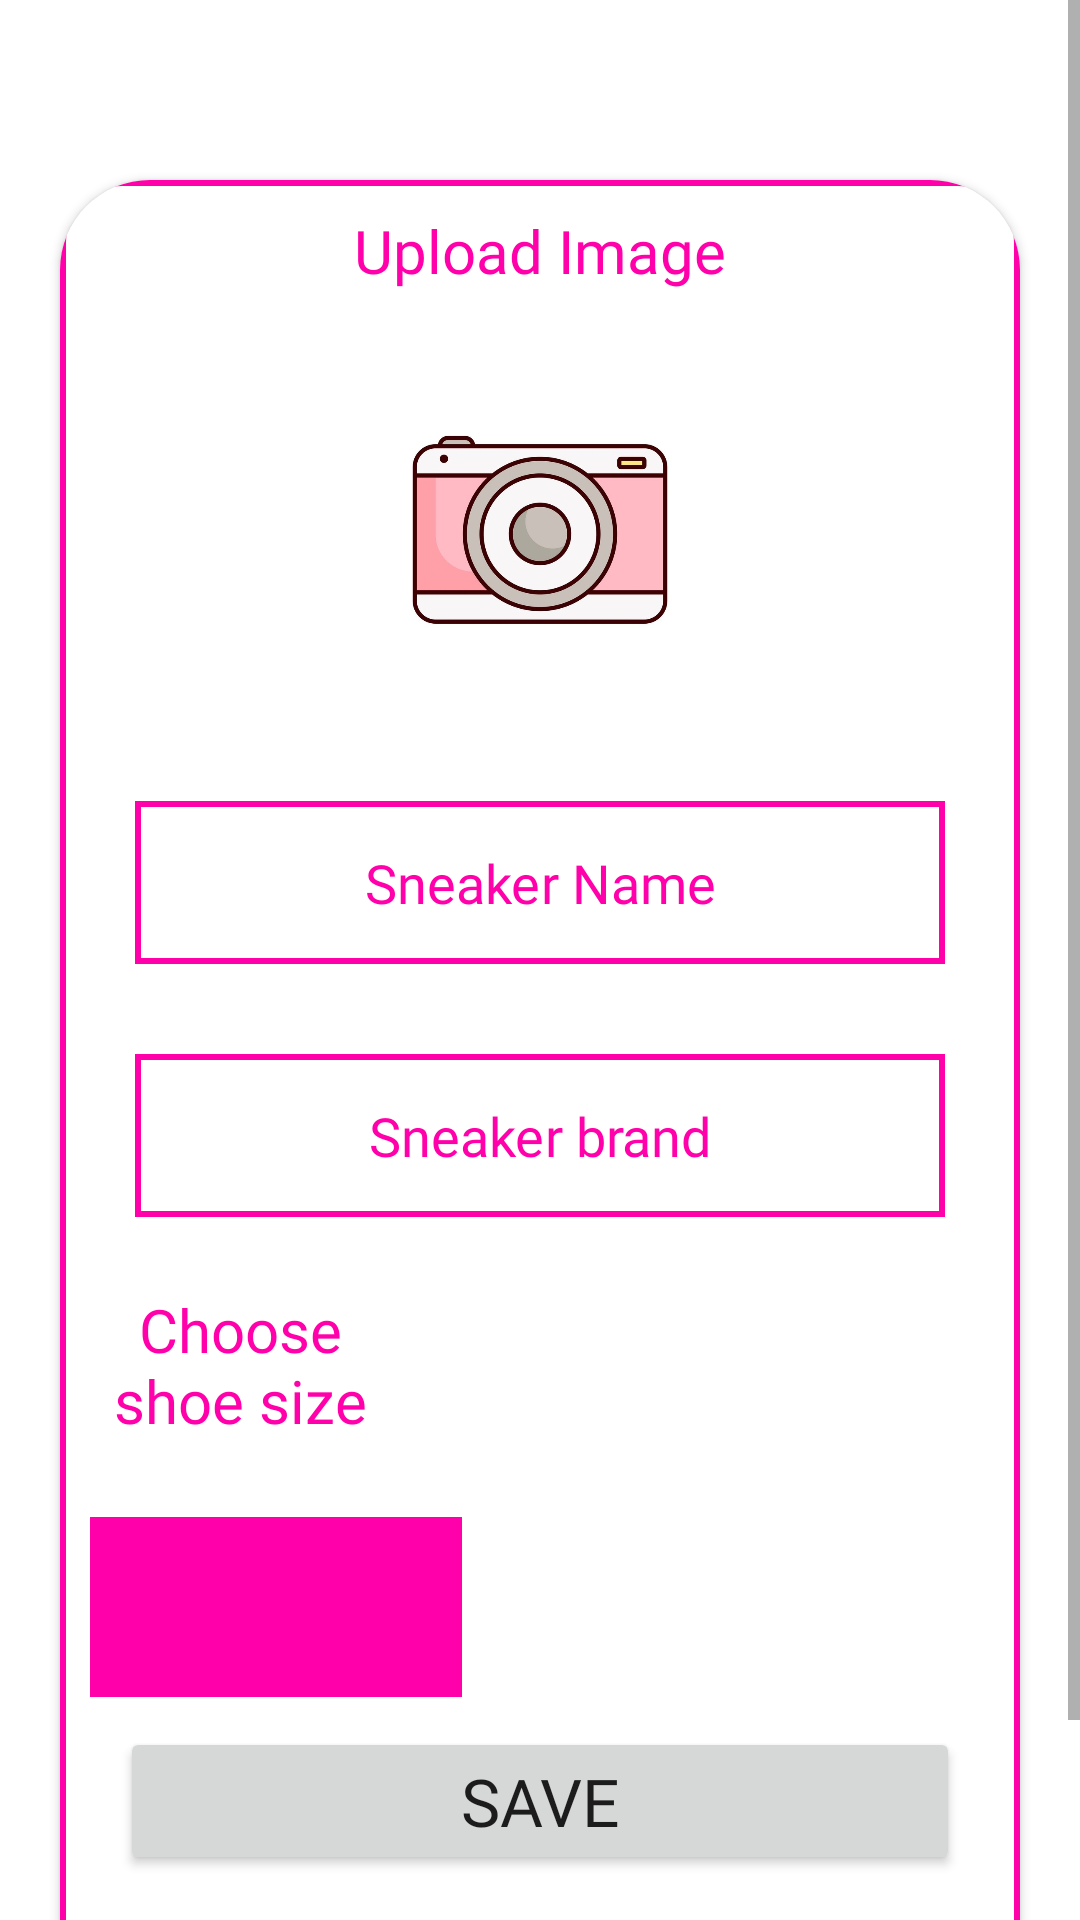

Named icons in this screenshot (1080×1920) and their centers, point (x, y):
cameraicon: point (540, 530)
